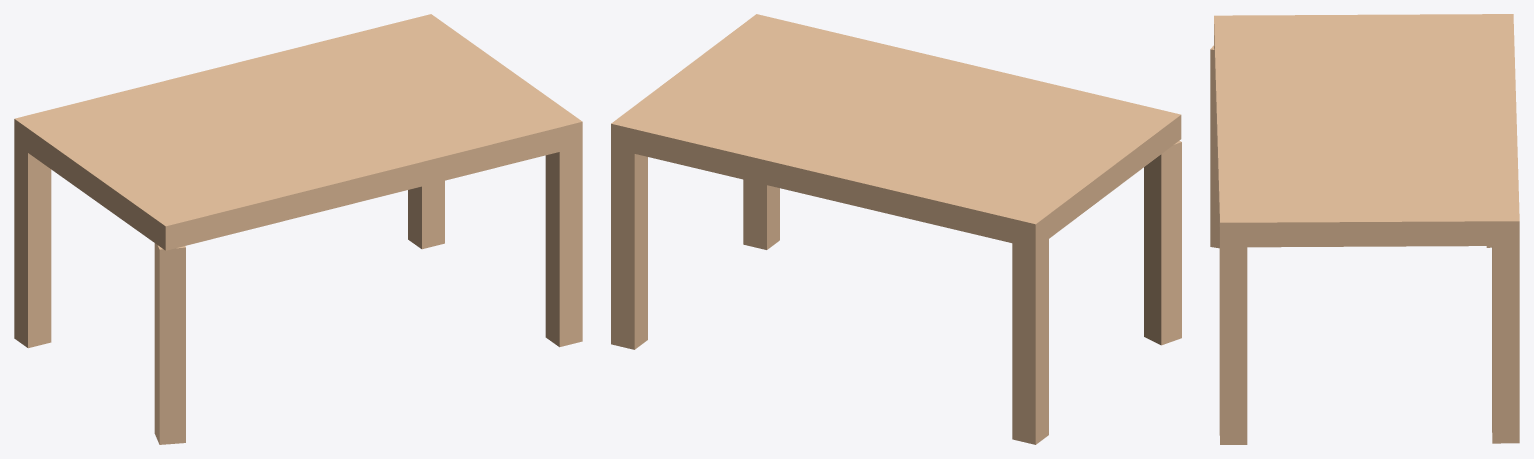
File: DeskTV-1.fbx
3 renders of one model, left to right at view 1: azimuth 30°, elevation 25°; view 2: azimuth 150°, elevation 25°; view 3: azimuth 270°, elevation 25°, orthographic.
Parts seen in each view (by area): view 1: Cube.033; view 2: Cube.033; view 3: Cube.033.
Boxes of the visible parts, <box> form: Cube.033: <box>14,14,582,444</box>; Cube.033: <box>611,14,1181,444</box>; Cube.033: <box>1210,14,1519,444</box>.
Size of the model in its own units: 90.72 by 45 by 56.8.
